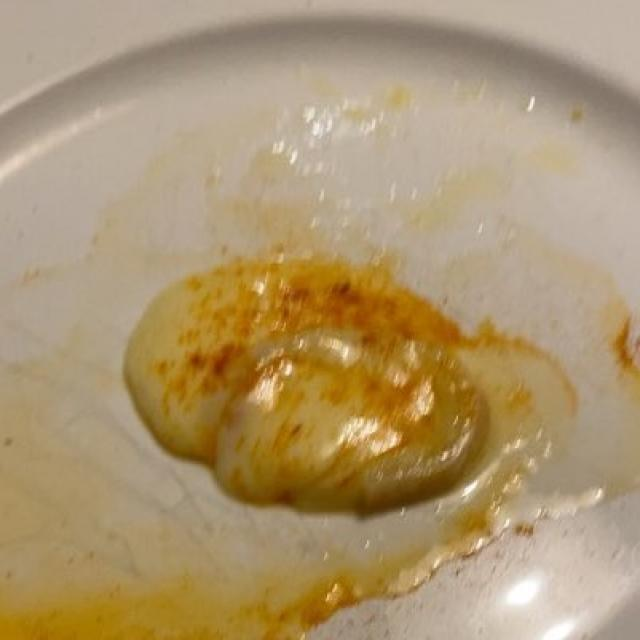cheese-for-raclette: (123, 258, 460, 515)
